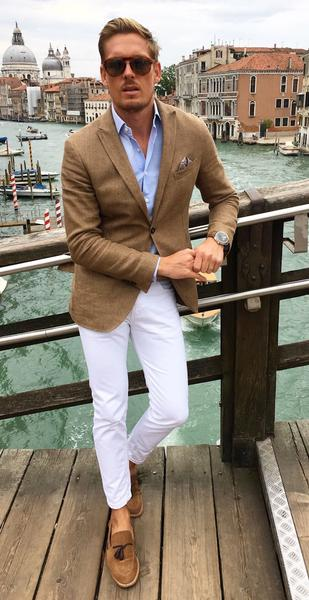sunglasses: (104, 56, 165, 77)
